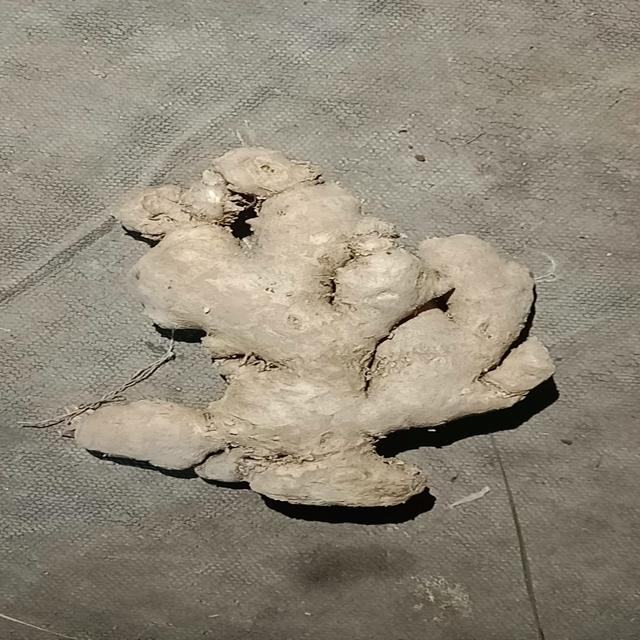ginger: (67, 155, 566, 517)
